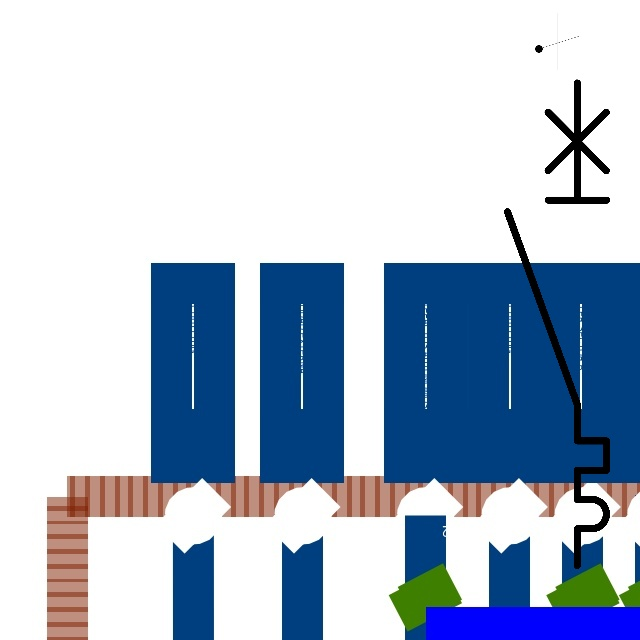interruptor_termomagnetico: (495, 70, 619, 578)
